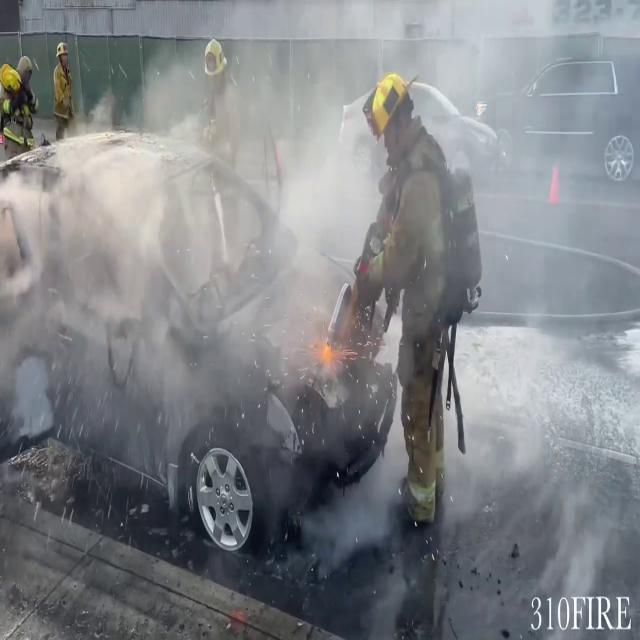Smoke: (0, 40, 414, 512), (438, 0, 640, 352)
